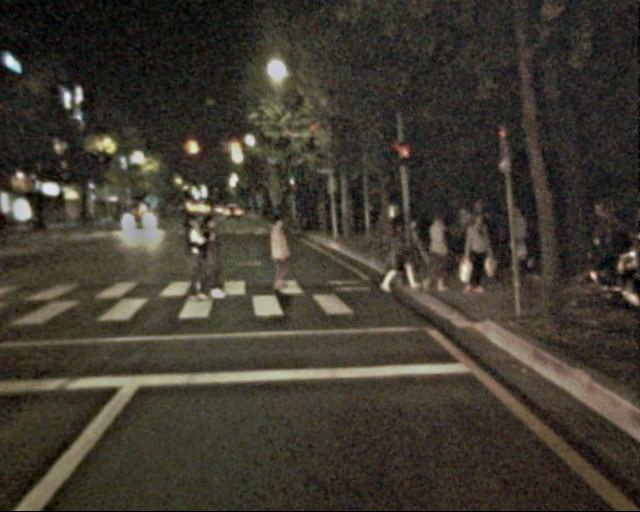person: (192, 209, 229, 299), (461, 213, 496, 298), (175, 214, 209, 298), (421, 210, 455, 294), (261, 214, 295, 297), (504, 202, 538, 285), (380, 216, 413, 296), (604, 196, 636, 273), (466, 198, 497, 273), (448, 206, 475, 271)
